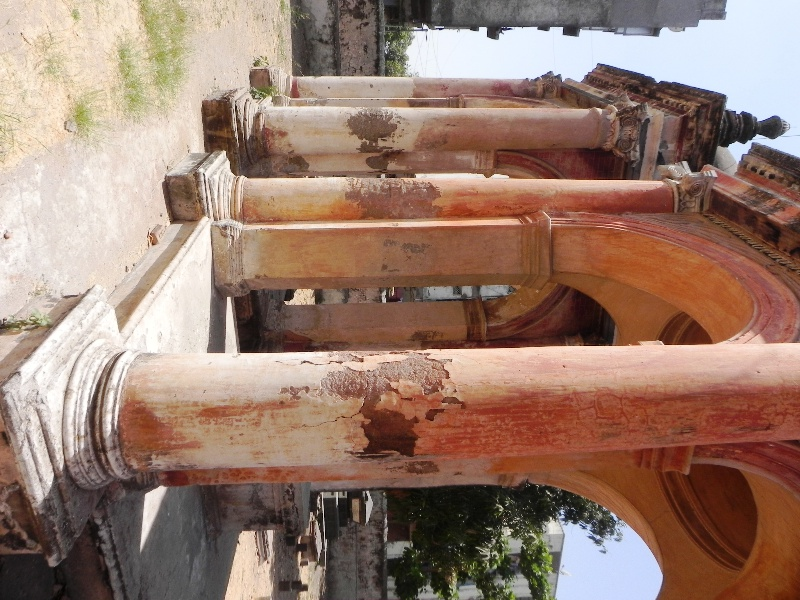Spalling: (313, 351, 469, 475), (336, 176, 454, 222), (341, 104, 413, 155)
